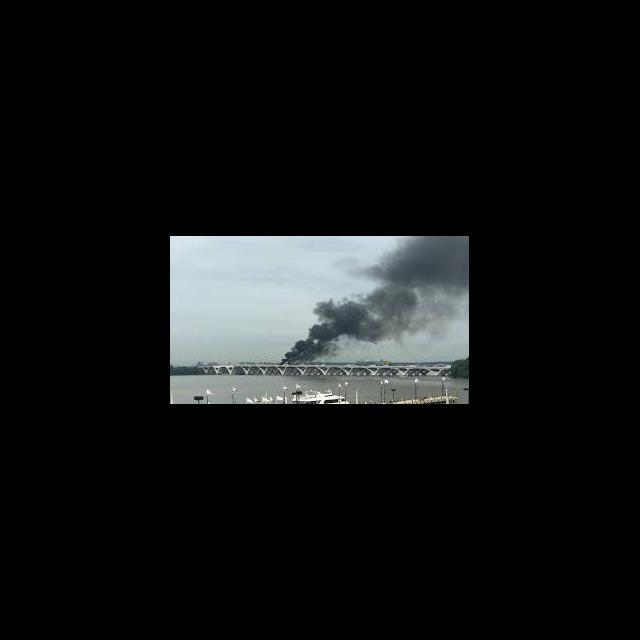Smoke: (281, 236, 468, 365)
